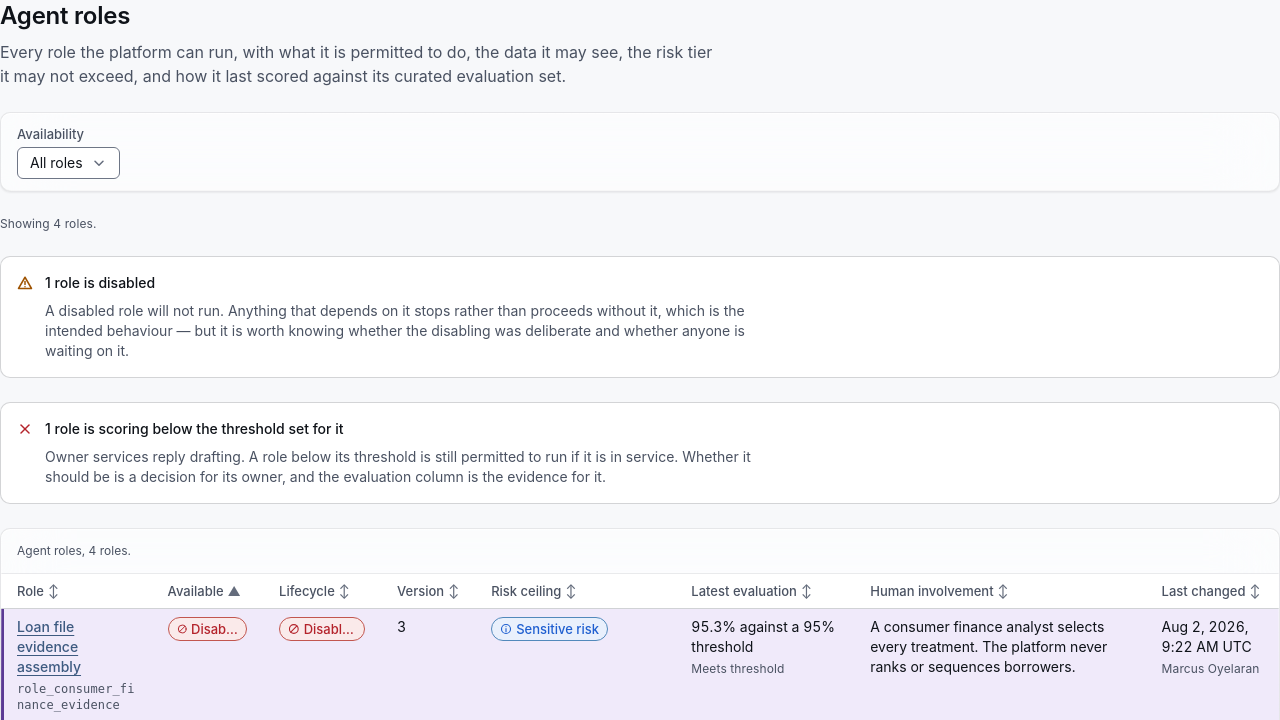
Test: RoleRegistry › filters to disabled roles only
This screenshot has width=1280, height=720.
Click the dropdown named "Availability": {"x": 56, "y": 163} top-left (30, 153), bottom-right (83, 173)
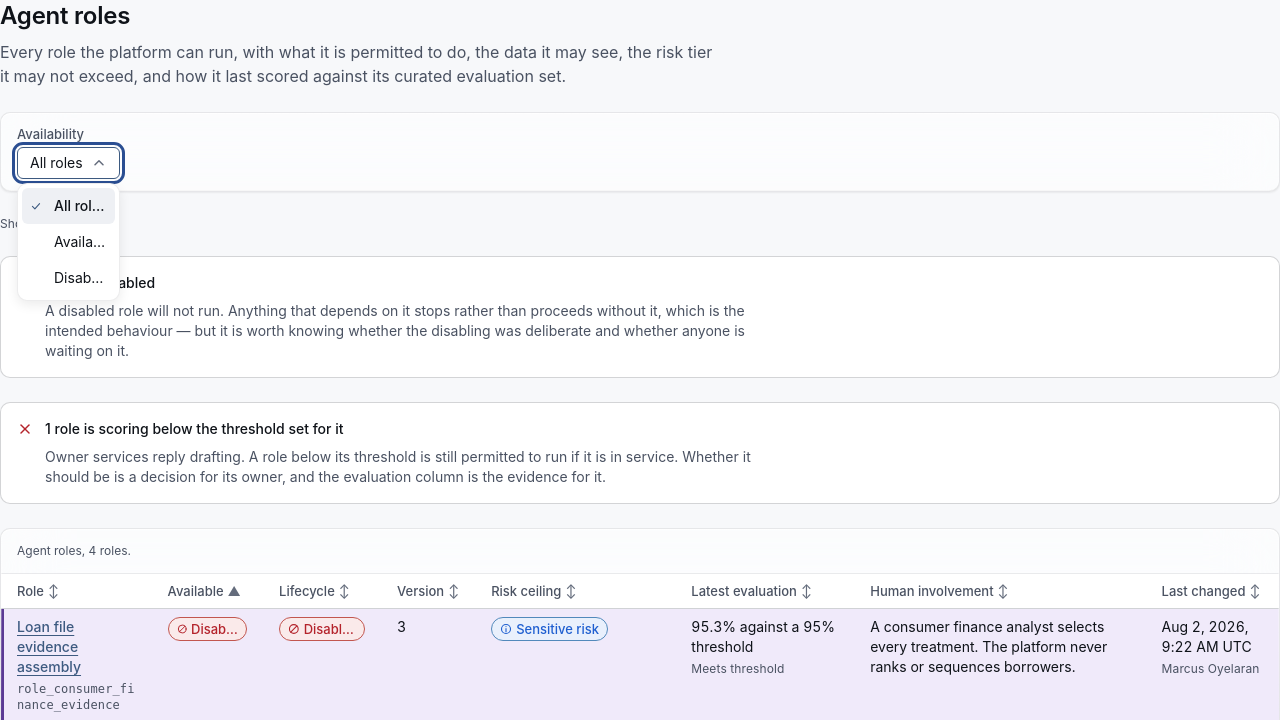
Click the option "Disabled only": {"x": 99, "y": 278} top-left (54, 269), bottom-right (143, 286)
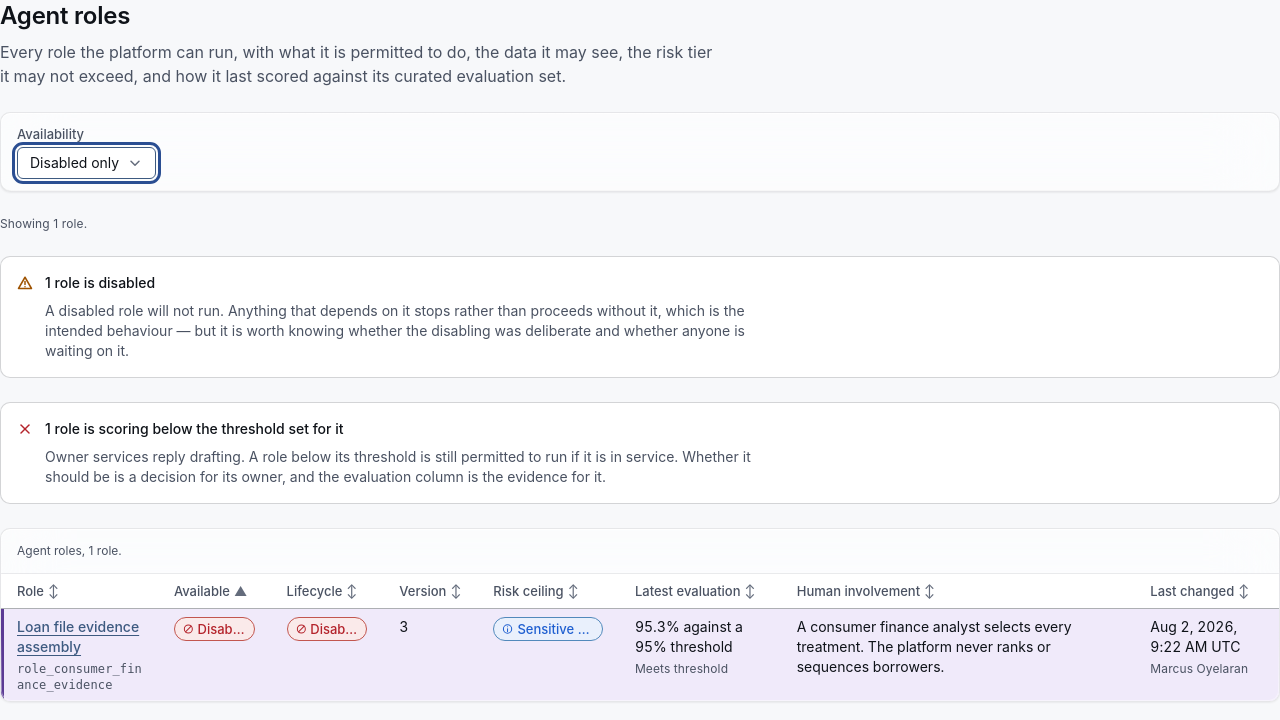
Expected: the link "Loan file evidence assembly" is shown, top-left (17, 617), bottom-right (142, 657)
Expected: the dropdown named "Availability" reads "Disabled only", top-left (30, 153), bottom-right (119, 173)
Expected: the number of rows is 2, top-left (1, 574), bottom-right (1279, 608); top-left (1, 608), bottom-right (1279, 701)
